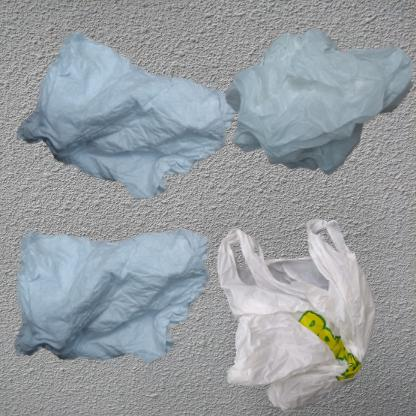bolsa: (213, 10, 416, 201), (213, 213, 387, 416)
papel: (10, 10, 296, 269), (10, 213, 219, 376)
